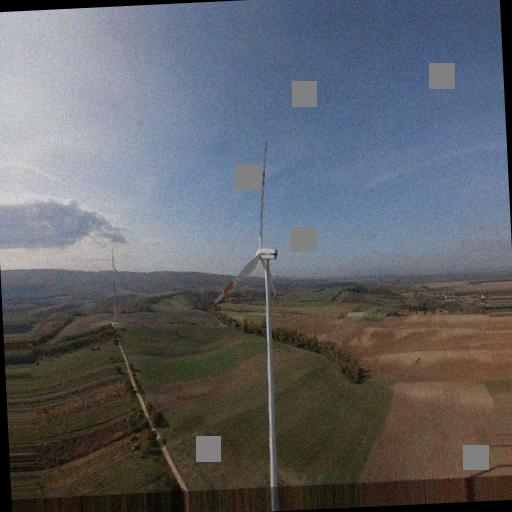wind turbine: (210, 141, 285, 479)
